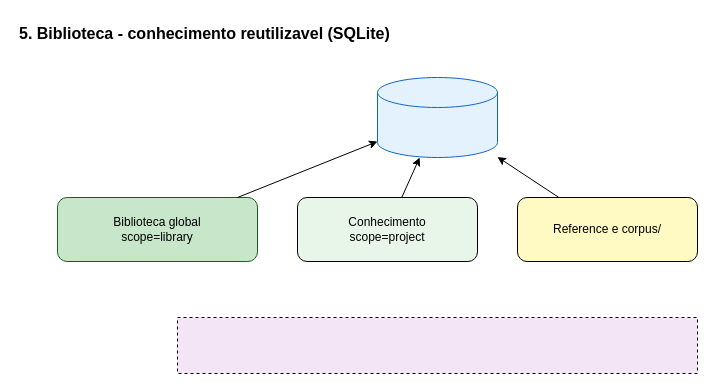
Some shapes in this 715 by 391 pixel diagram are drawn without their labels. Each missing label, with the centre of its shape:
Import consolidado pode promover factos a biblioteca (ADR-012): point (437, 345)
SQLite get.db: point (437, 117)
